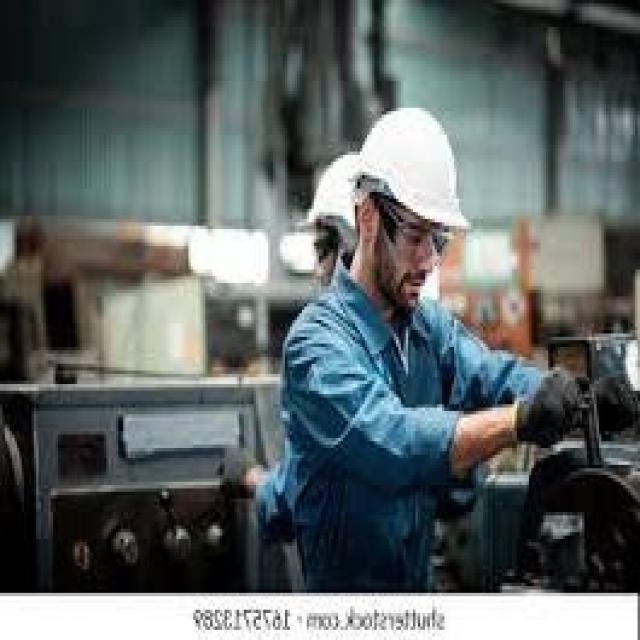Safety-Helmet: (348, 101, 476, 243), (297, 145, 370, 242)
